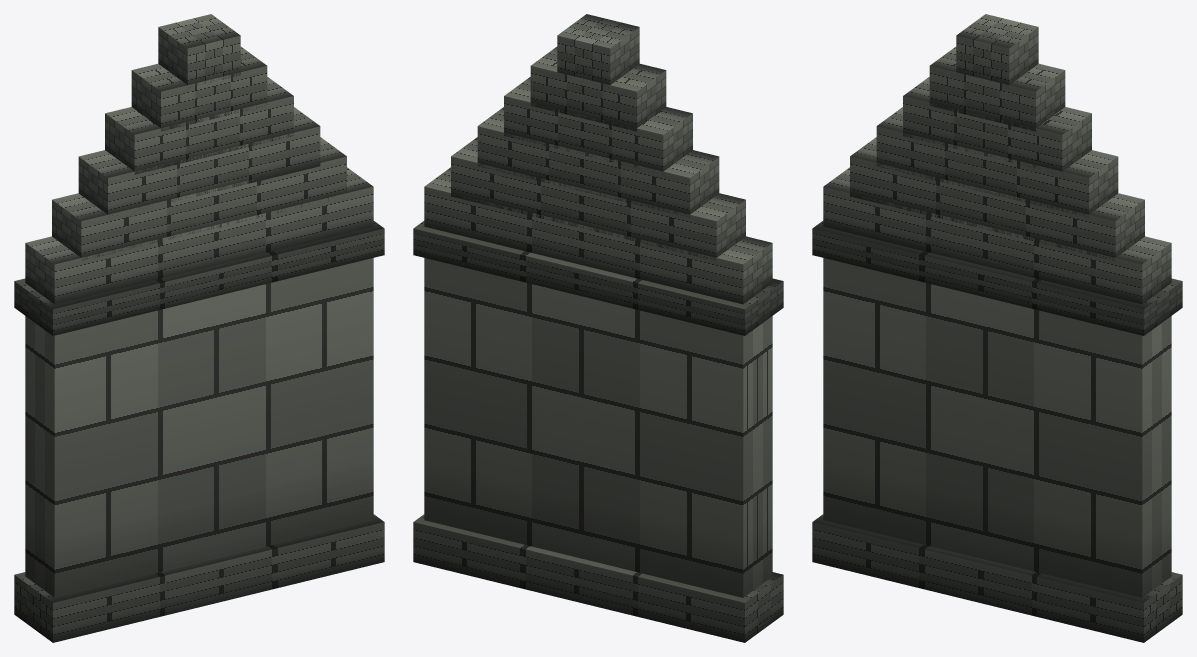
The model's file is gable_wall.gltf.
The picture shows the model from 3 angles, left to right: view 1: azimuth 30°, elevation 25°; view 2: azimuth 150°, elevation 25°; view 3: azimuth 330°, elevation 25°; orthographic projection.
Visible parts, largest first — view 1: gable_wall; view 2: gable_wall; view 3: gable_wall.
Part boxes in pixels (<box>): gable_wall: <box>14,14,384,642</box>; gable_wall: <box>413,14,783,642</box>; gable_wall: <box>812,14,1182,642</box>.
Size of the model in its own units: 1.04 by 1.67 by 0.21.
Materials: 1 (1 with a texture image).
